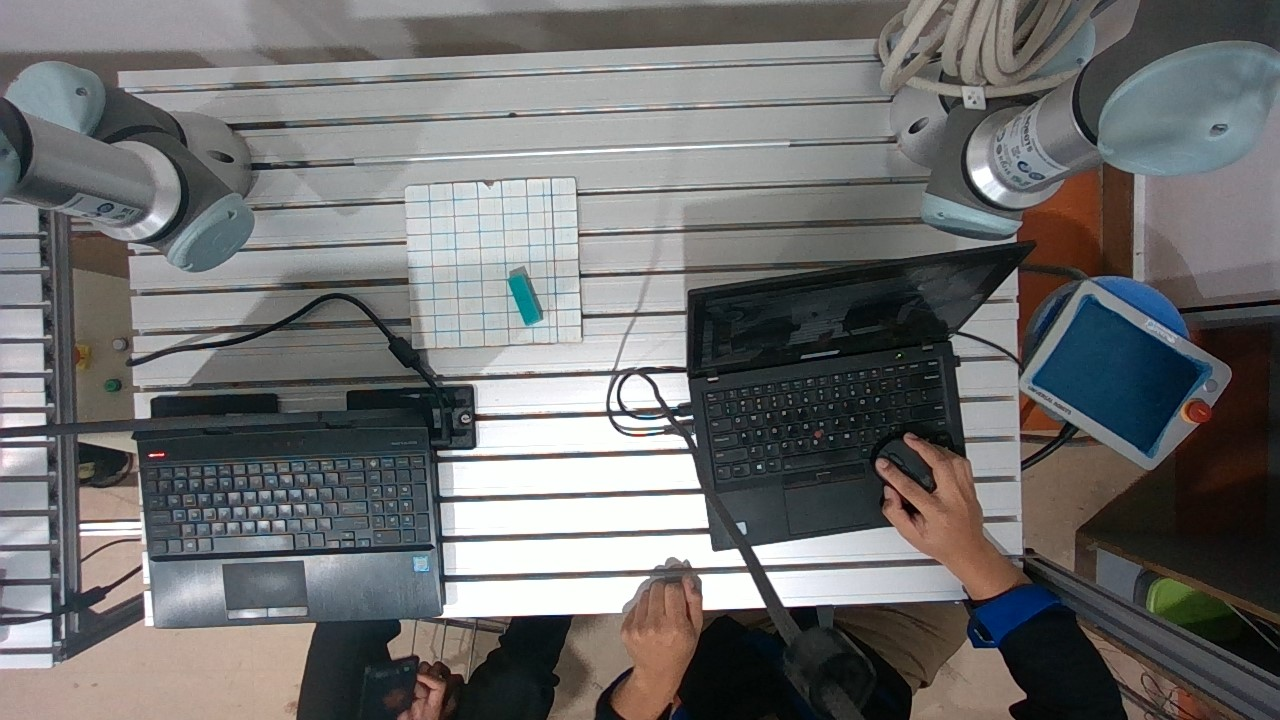box: (501, 264, 552, 332)
